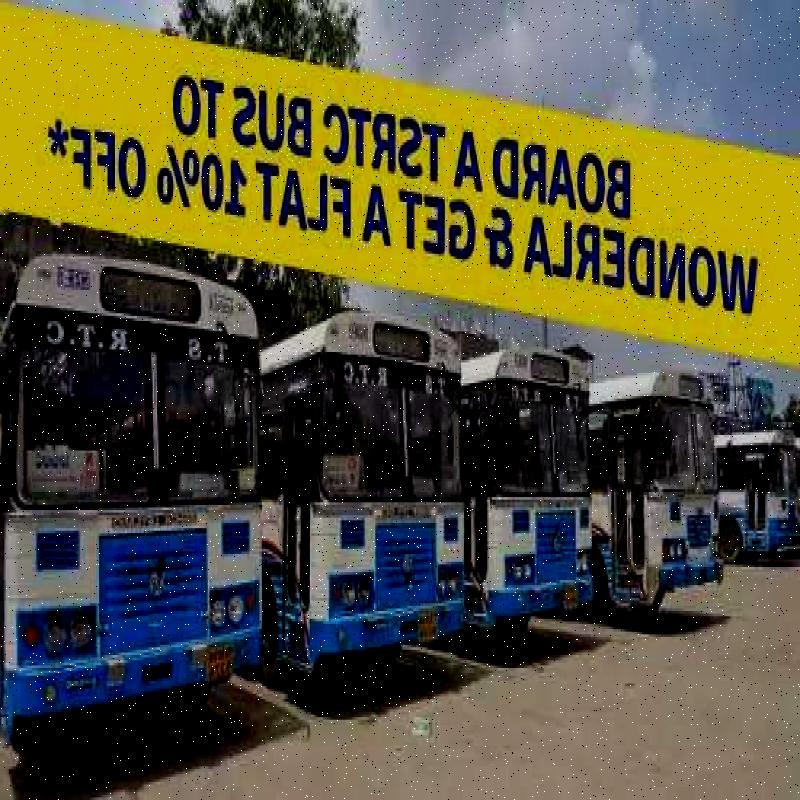bus: (0, 252, 270, 734), (294, 323, 464, 688), (470, 333, 596, 648)
